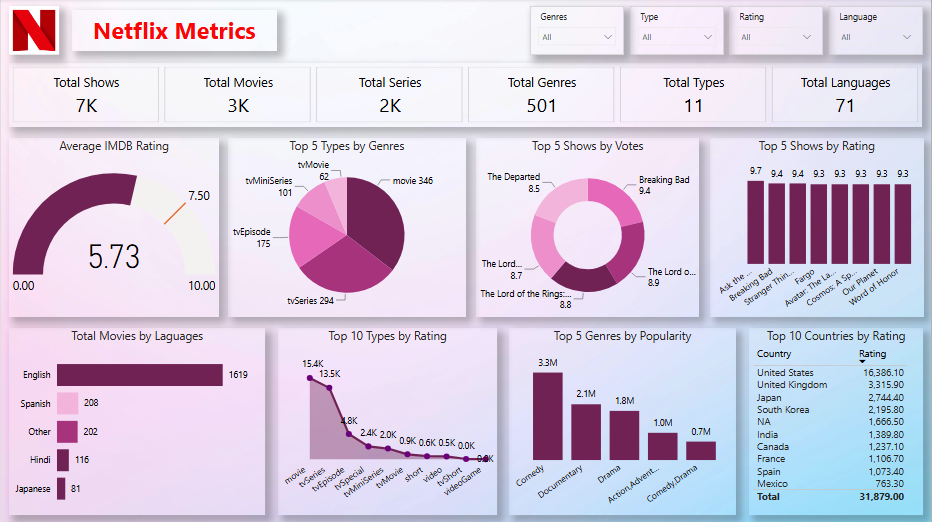

What the dashboard file says about the page in this screenshot:
{"tool":"powerbi","page":{"name":"Dashboard","canvas":[1280,720],"ordinal":0},"visuals":[{"type":"cardVisual","fields":{"Data":["netflix_list.Total Shows","netflix_list.Total Movies","netflix_list.Total Series","netflix_list.Total Genres","netflix_list.Total Types","netflix_list.Total Languages"]},"box":[10.7,88.8,1257.3,87.8],"z":0,"group":"g3"},{"type":"slicer","fields":{"Values":["netflix_list.genres"]},"box":[727.6,9.9,129.4,67.1],"z":1000,"group":"g1"},{"type":"gauge","title":"Average IMDB Rating","fields":{"Y":["netflix_list.Avg IMDB Rating"]},"box":[10.7,191.8,289,246.3],"z":1000,"group":"g2"},{"type":"tableEx","title":"Top 10 Countries by Rating","fields":{"Values":["netflix_list.orign_country","Sum(netflix_list.rating)"]},"box":[1028.9,452.4,240,257.9],"z":1000,"group":"g3"},{"type":"slicer","fields":{"Values":["netflix_list.type"]},"box":[864.7,9.9,129.4,67.1],"z":2000,"group":"g1"},{"type":"pieChart","title":"Top 5 Types by Genres","fields":{"Category":["netflix_list.type"],"Y":["netflix_list.Total Genres"]},"box":[312.4,191.8,327,246.3],"z":2000,"group":"g2"},{"type":"lineChart","title":"Top 10 Types by Rating","fields":{"Category":["netflix_list.type"],"Y":["Sum(netflix_list.rating)"]},"box":[381.3,452.5,301.5,257.8],"z":2000,"group":"g3"},{"type":"slicer","fields":{"Values":["netflix_list.rating"]},"box":[1001.9,9.9,129.4,67.1],"z":3000,"group":"g1"},{"type":"columnChart","title":"Top 5 Shows by Rating","fields":{"Category":["netflix_list.title"],"Y":["Sum(netflix_list.rating)"]},"box":[975,191.8,293.9,246.3],"z":3000,"group":"g2"},{"type":"barChart","title":"Total Movies by Laguages","fields":{"Y":["netflix_list.Total Movies"],"Category":["netflix_list.language"]},"box":[10.7,452.4,352.8,257.9],"z":3000,"group":"g3"},{"type":"slicer","fields":{"Values":["netflix_list.language"]},"box":[1139,9.9,129.4,67.1],"z":4000,"group":"g1"},{"type":"donutChart","title":"Top 5 Shows by Votes","fields":{"Category":["netflix_list.title"],"Y":["Sum(netflix_list.rating)"]},"box":[653.9,191.8,307.5,246.3],"z":4000,"group":"g2"},{"type":"clusteredColumnChart","title":"Top 5 Genres by Popularity","fields":{"Category":["netflix_list.genres"],"Y":["Sum(netflix_list.popular_rank)"]},"box":[699.4,452.5,312.2,257.8],"z":4000,"group":"g3"},{"type":"textbox","box":[97.3,15.7,282.1,56.4],"z":5000,"group":"g3"},{"type":"image","box":[10.7,9.9,69.1,67.1],"z":6000,"group":"g3"},{"type":"group","id":"g1","title":"Group 1","box":[727.6,9.9,540.8,67.1],"z":7000,"group":"g3"},{"type":"group","id":"g2","title":"Group 2","box":[10.7,191.8,1258.2,246.3],"z":8000,"group":"g3"},{"type":"group","id":"g3","title":"Group 3","box":[10.7,9.9,1258.2,700.3],"z":11002}]}

Visuals, with their boxes in screenshot pixels (x1, y1, x2, y2), scaled from the page's 1280x720 canvas onto the 932x522 screenshot:
cardVisual - netflix_list.Total Shows x netflix_list.Total Movies: 8 64 923 128
slicer - netflix_list.genres: 530 7 624 56
"Average IMDB Rating" gauge: 8 139 218 318
"Top 10 Countries by Rating" tableEx: 749 328 924 515
slicer - netflix_list.type: 630 7 724 56
"Top 5 Types by Genres" pieChart: 227 139 466 318
"Top 10 Types by Rating" lineChart: 278 328 497 515
slicer - netflix_list.rating: 730 7 824 56
"Top 5 Shows by Rating" columnChart: 710 139 924 318
"Total Movies by Laguages" barChart: 8 328 265 515
slicer - netflix_list.language: 829 7 924 56
"Top 5 Shows by Votes" donutChart: 476 139 700 318
"Top 5 Genres by Popularity" clusteredColumnChart: 509 328 737 515
textbox: 71 11 276 52
image: 8 7 58 56
"Group 1" group: 530 7 924 56
"Group 2" group: 8 139 924 318
"Group 3" group: 8 7 924 515
